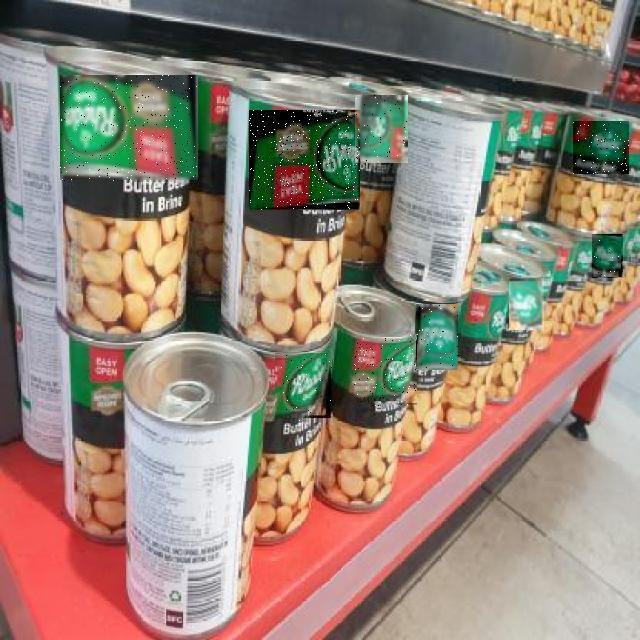Beans: (60, 76, 198, 182), (249, 110, 360, 210), (354, 334, 418, 406), (275, 354, 333, 422), (355, 95, 408, 163), (573, 121, 629, 174), (416, 304, 458, 370), (510, 278, 546, 330), (592, 234, 623, 278)
